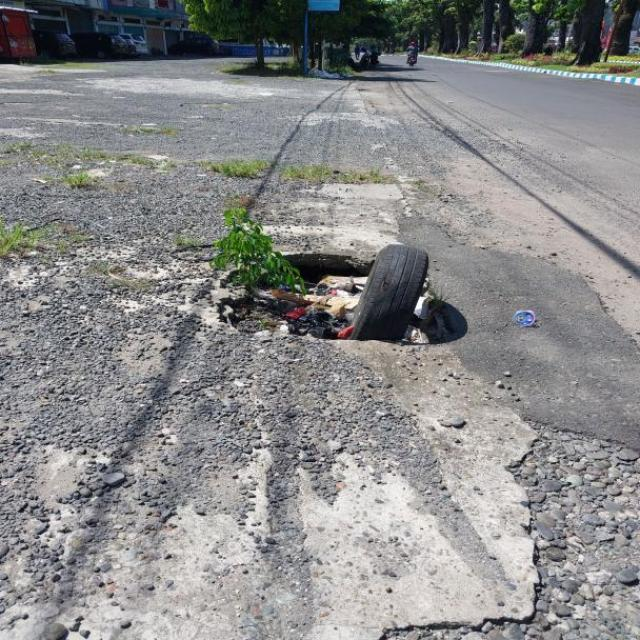pathole ahead at: (213, 209, 436, 359)
